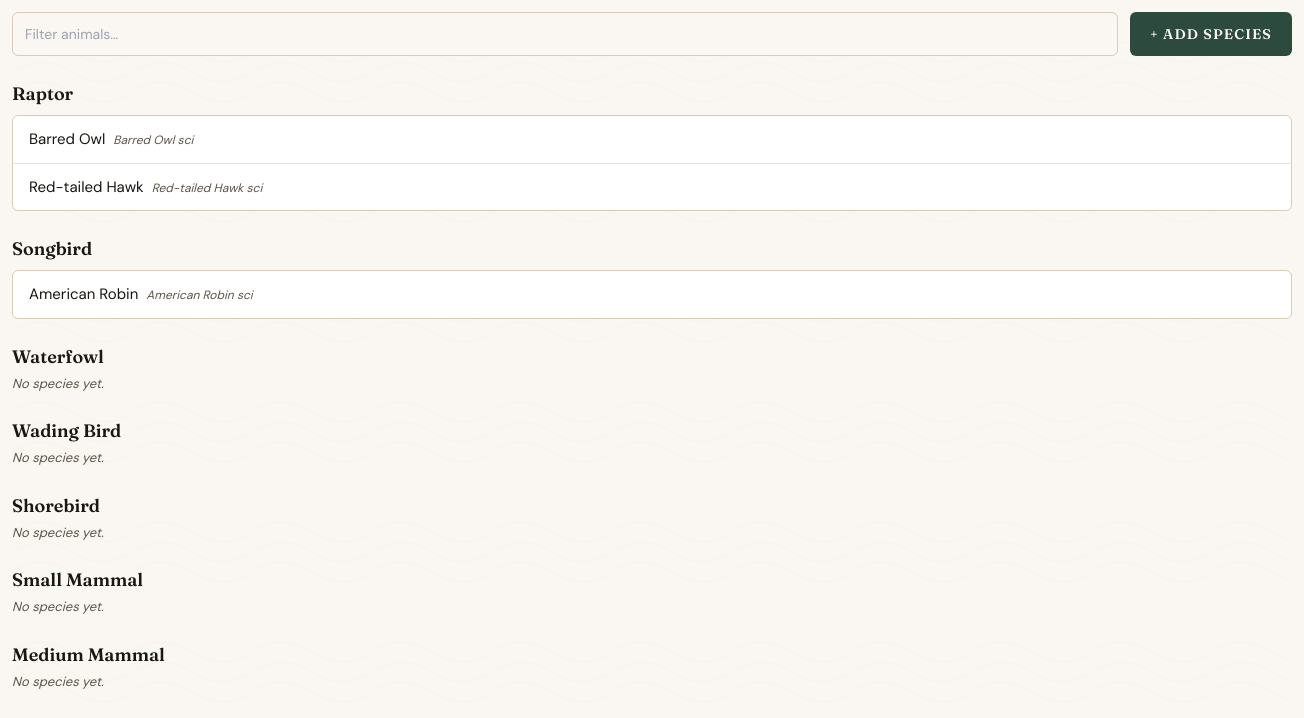
Test: AnimalsIndex › filters by species name or group
This screenshot has width=1304, height=718.
expect the link "Red-tailed Hawk Red-tailed Hawk sci" is shown: met, box [29,176,262,196]
Type "owl" into the search field labelled "Filter animals…" at (565, 34), box [12,12,1118,56]
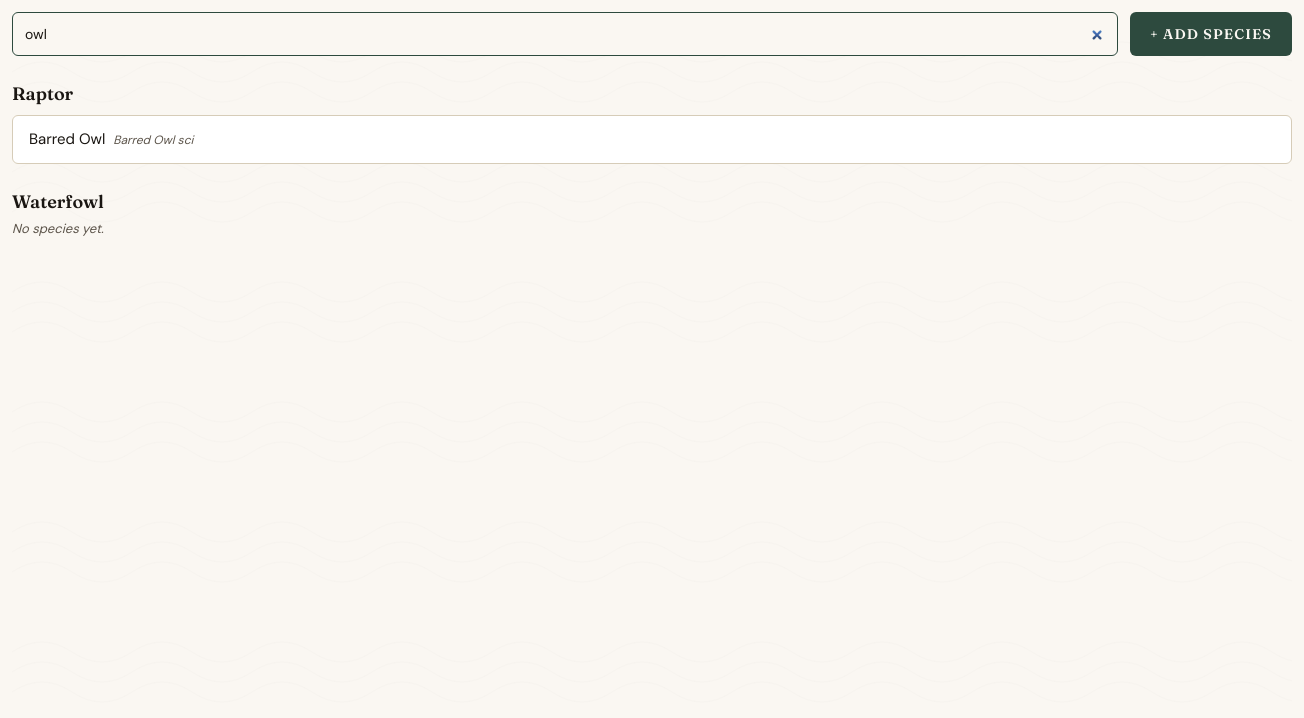
expect the link "Barred Owl Barred Owl sci" is shown: met, box [29,129,193,149]
expect the link "Red-tailed Hawk" is gone: met
expect the link "Songbird" is gone: met
